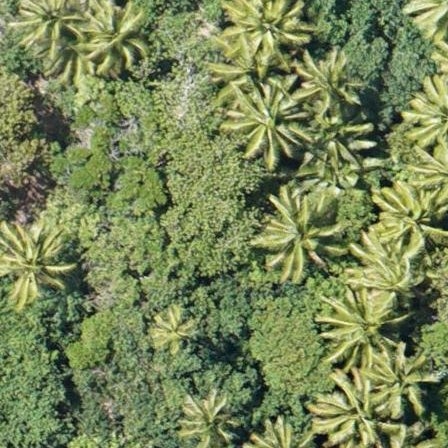palm_tree: (260, 194, 337, 270), (311, 374, 389, 448), (325, 288, 398, 365), (1, 219, 71, 299), (365, 341, 437, 415), (226, 85, 296, 159), (227, 1, 303, 65), (84, 2, 150, 70), (300, 107, 369, 166), (297, 51, 359, 115), (19, 1, 82, 56), (181, 395, 233, 448), (151, 306, 195, 350)
